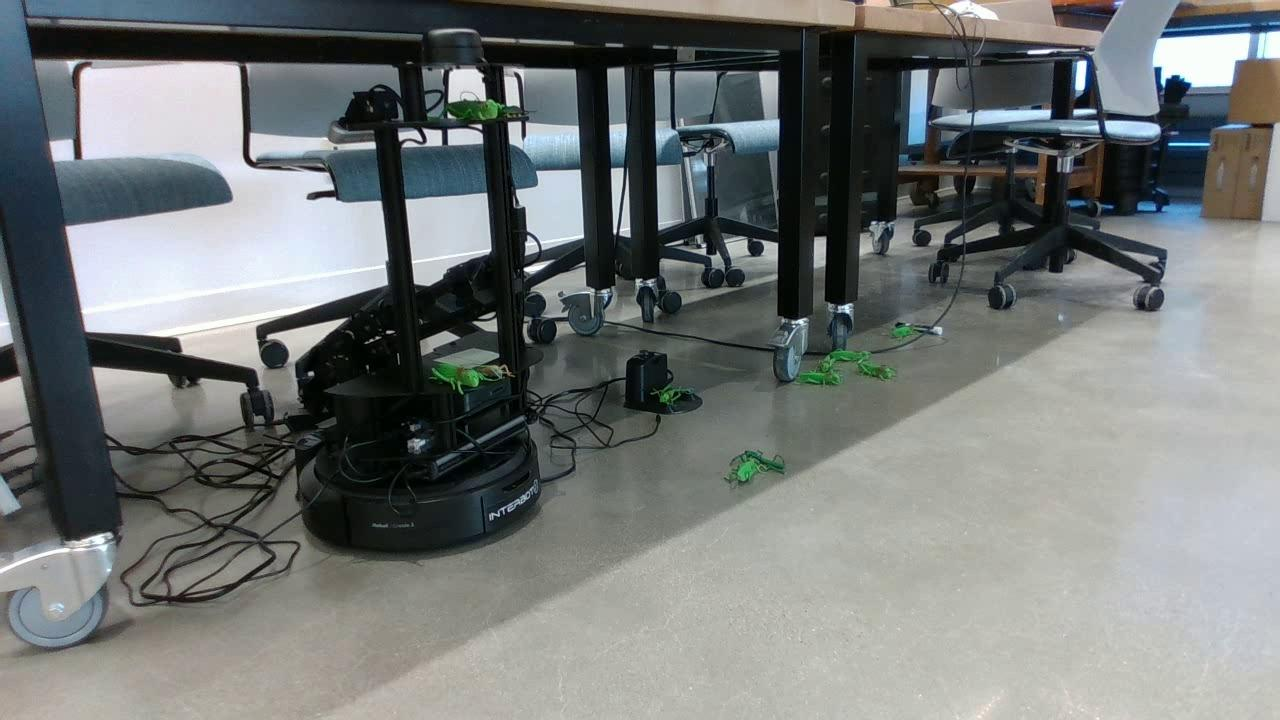grasshopper: (438, 94, 504, 127), (423, 358, 488, 390), (720, 455, 761, 493), (855, 355, 895, 388), (792, 370, 843, 387), (644, 385, 679, 409), (833, 347, 869, 362), (886, 323, 915, 341), (816, 351, 836, 376)
